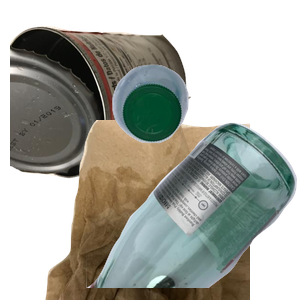glass: (86, 120, 300, 300)
metal: (10, 23, 193, 194)
plastic: (110, 62, 300, 198)
trash: (43, 120, 283, 300)
